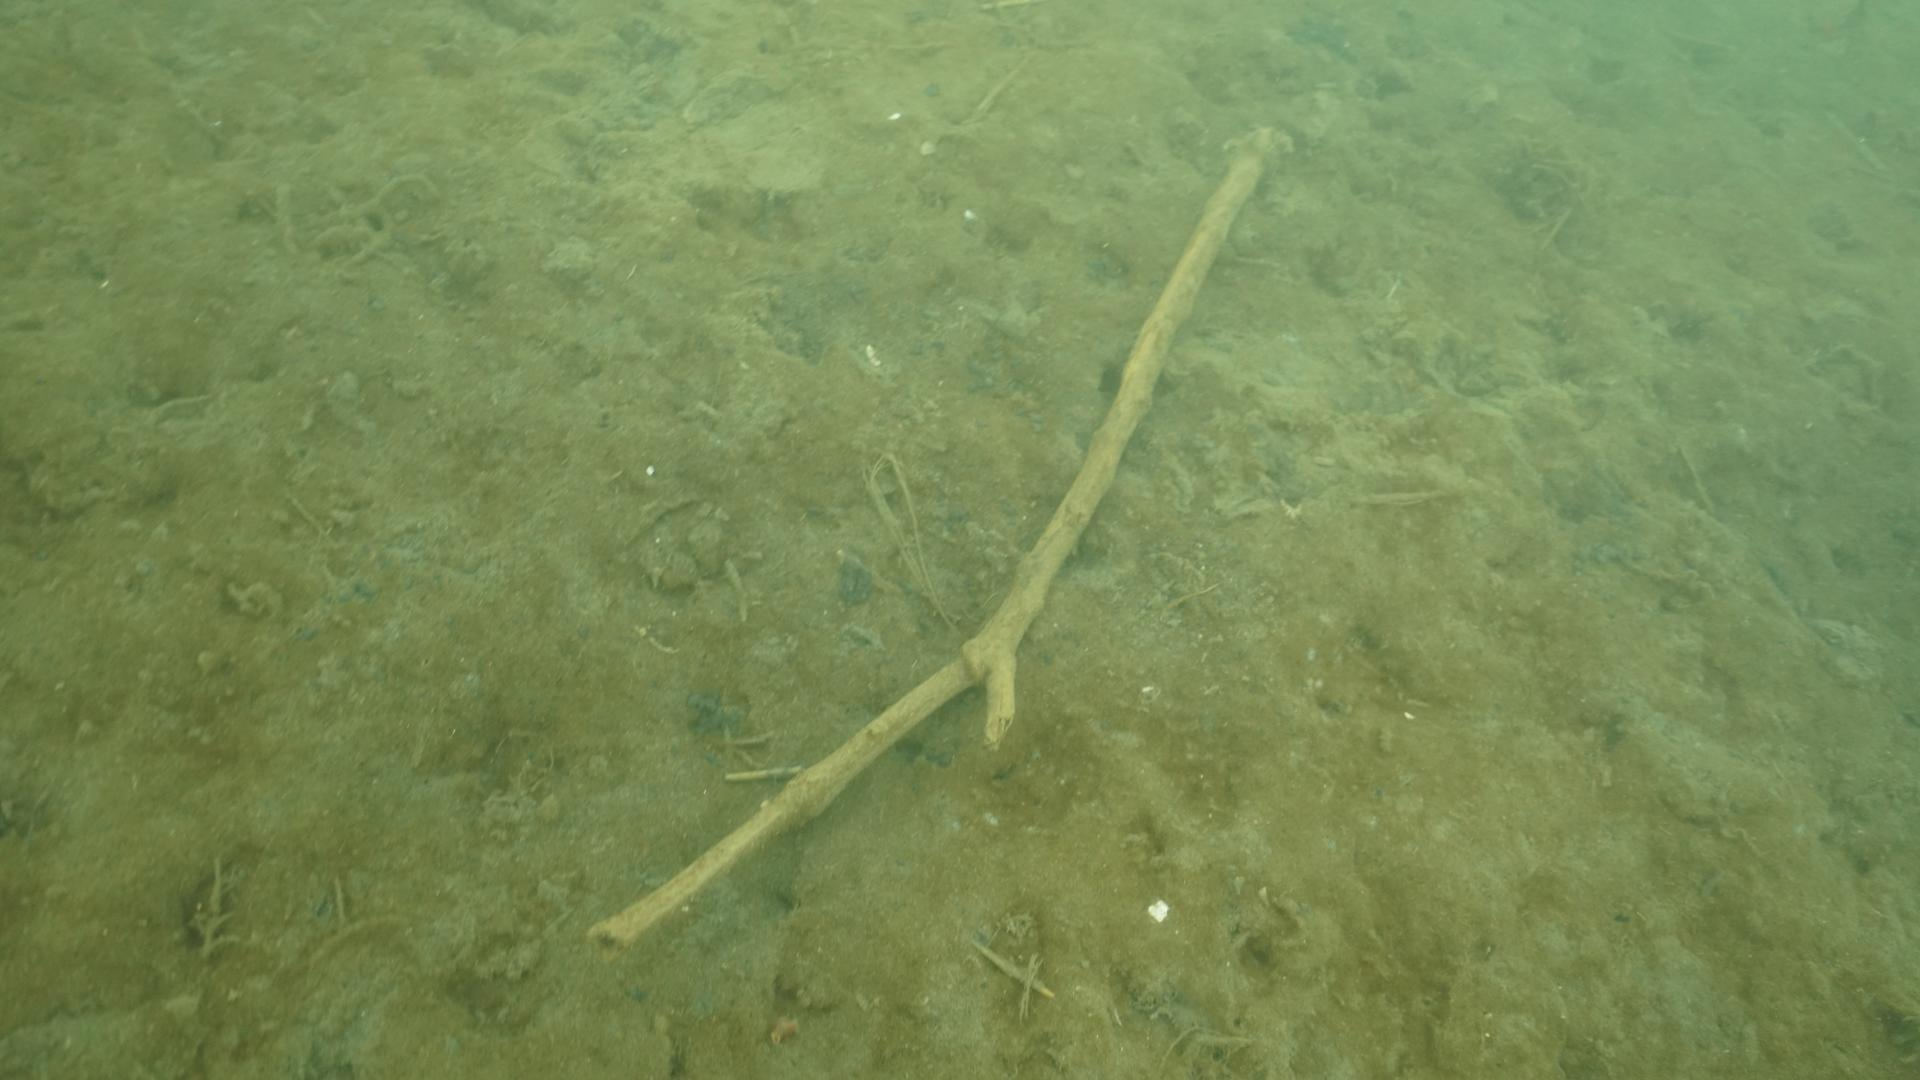wood: (585, 146, 1273, 957)
